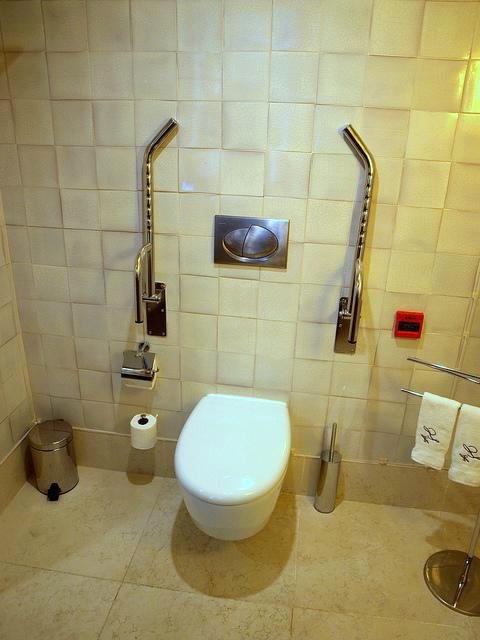Bote de Basura: (23, 410, 77, 500)
Sanitario: (172, 390, 298, 552)
